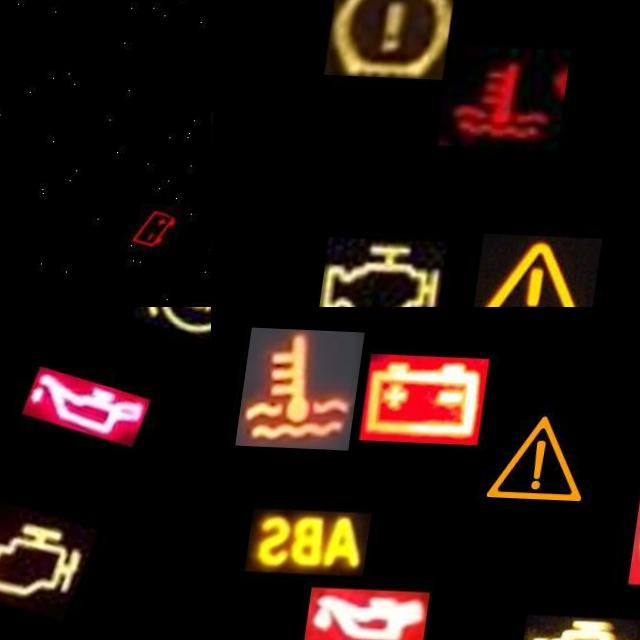Central Warning lamp: (478, 393, 609, 515), (487, 228, 617, 307)
Engine cooling system: (239, 327, 365, 449), (451, 41, 580, 146)
